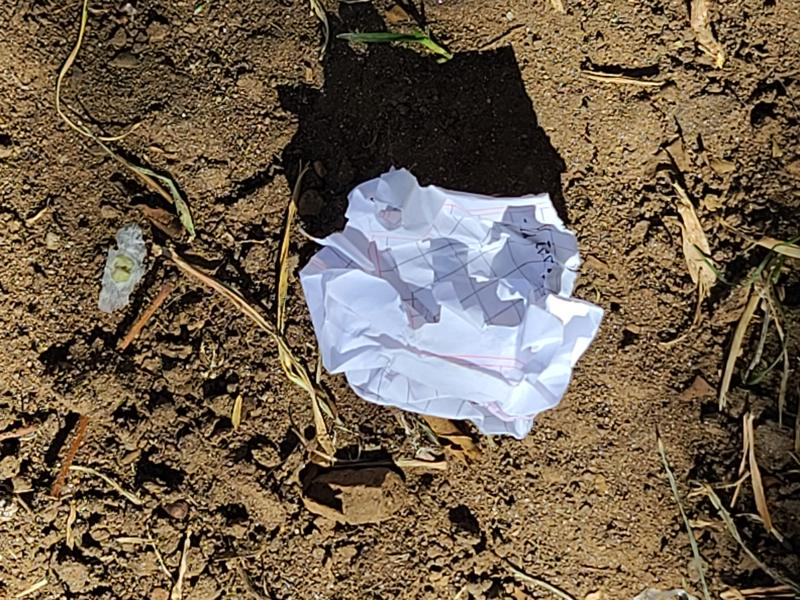papel: (297, 169, 606, 439)
